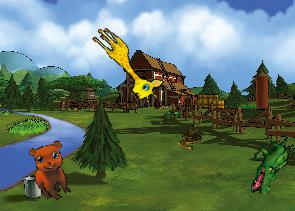bear: (21, 135, 84, 205)
crocodile: (249, 134, 290, 196)
giraffe: (82, 23, 168, 107)
